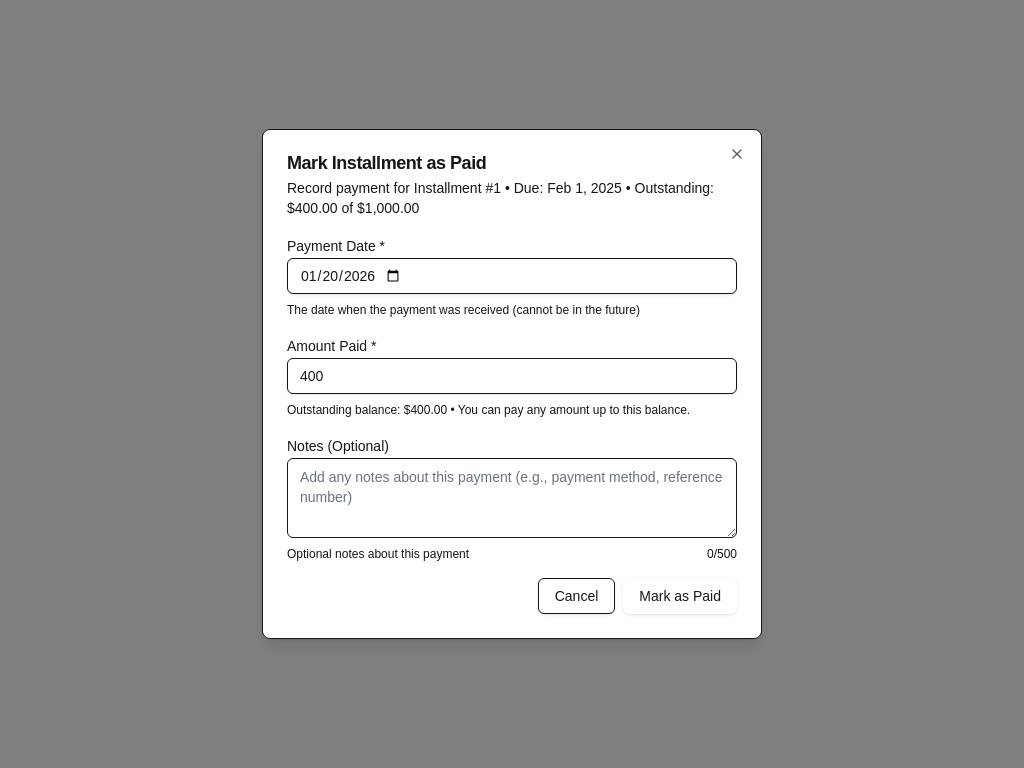
Test: MarkAsPaidModal › Partial Payment Warning › should calculate correct remaining balance for partial installments
# Outstanding balance is 400, user pays 200
Step 1. Clear the number field labelled "Amount Paid *" → {"x": 512, "y": 376}, box [287,358,737,394]
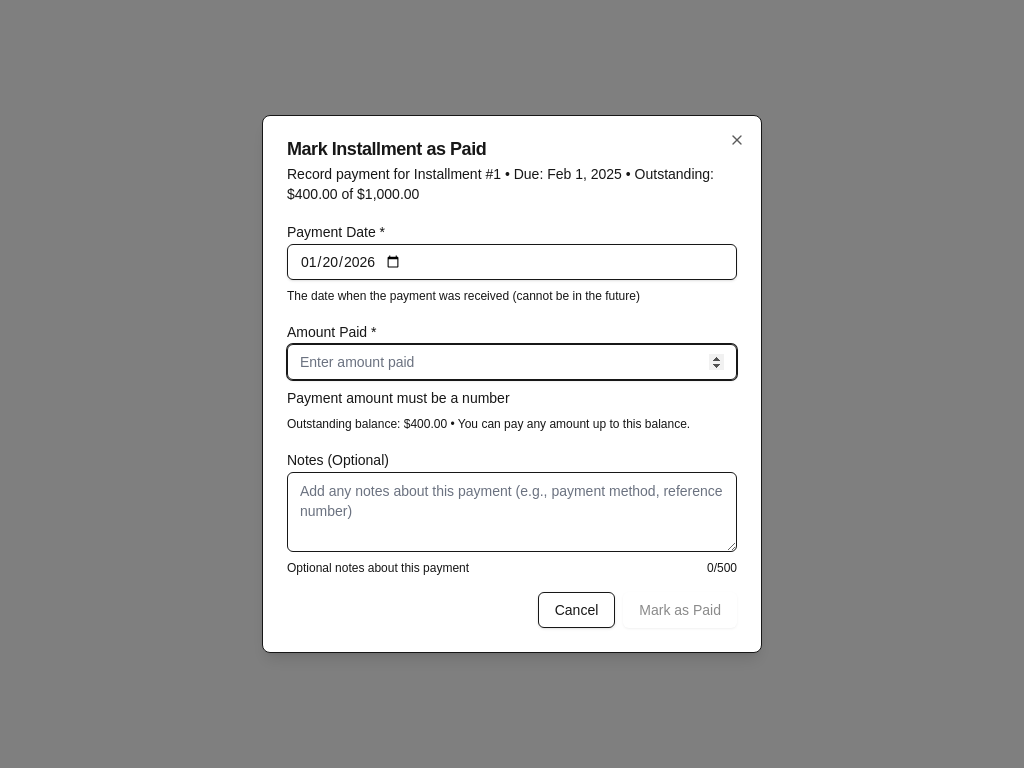
Step 2. Type "200" into the number field labelled "Amount Paid *" → {"x": 512, "y": 362}, box [287,344,737,380]
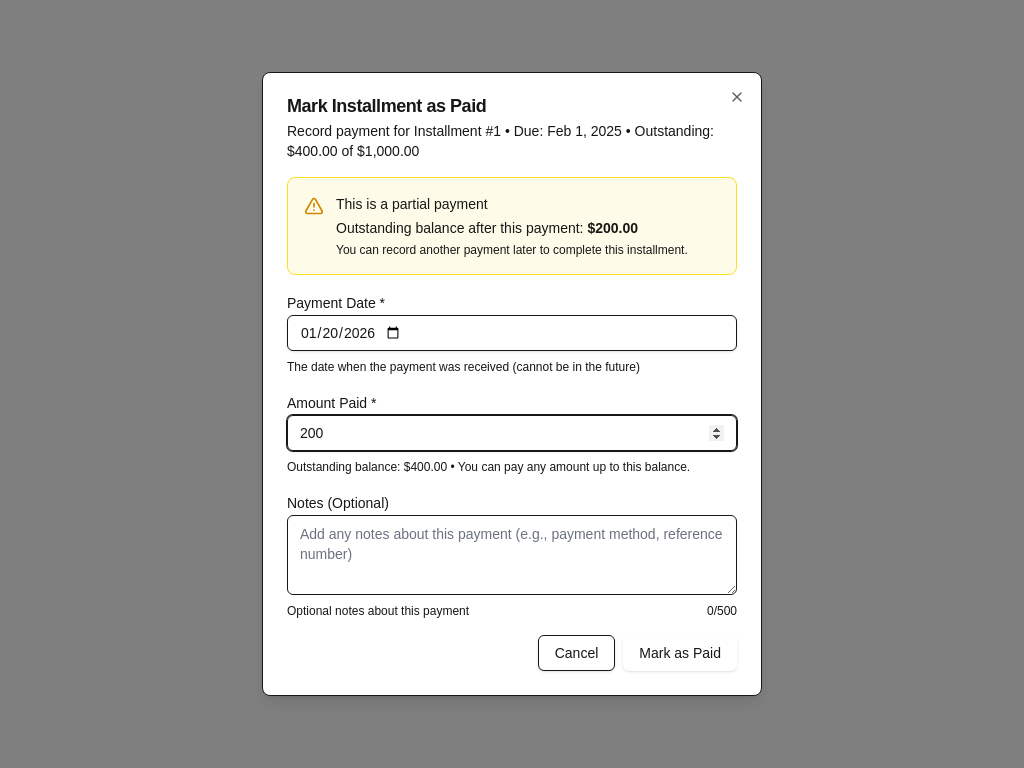
Expected: the text "This is a partial payment" is shown, [336,196,488,212]
Expected: the text "$200.00" is shown, [587,220,638,236]
